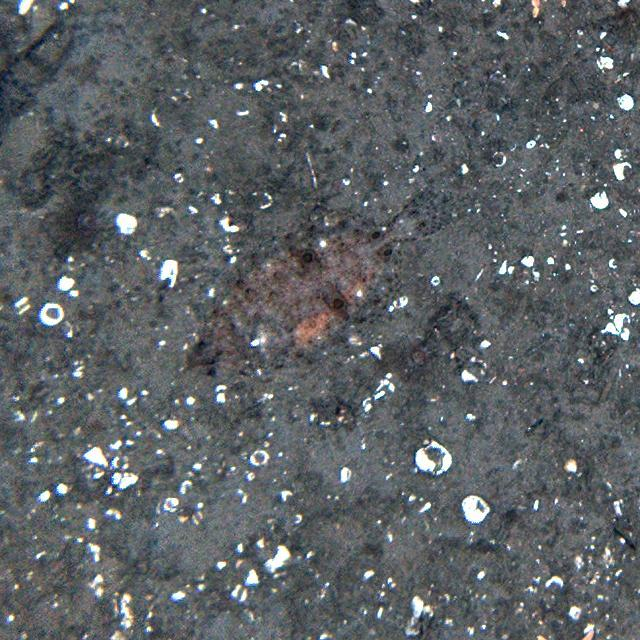flatfish: (180, 184, 454, 383)
